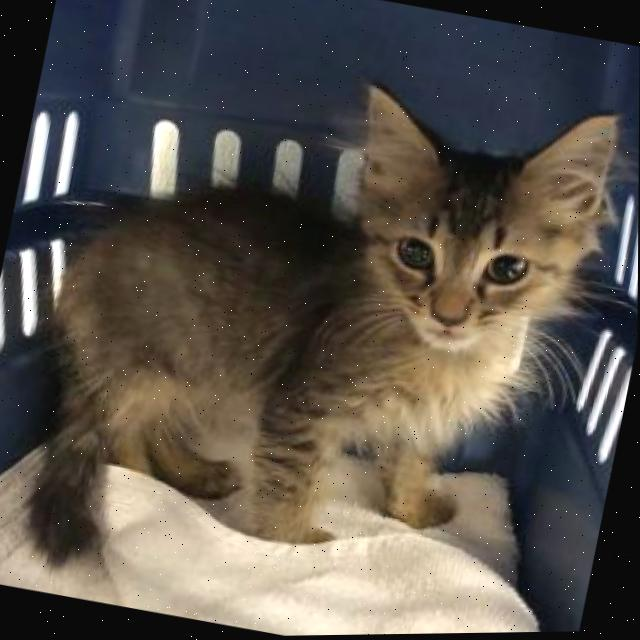Maine Coon: (0, 12, 633, 640)
